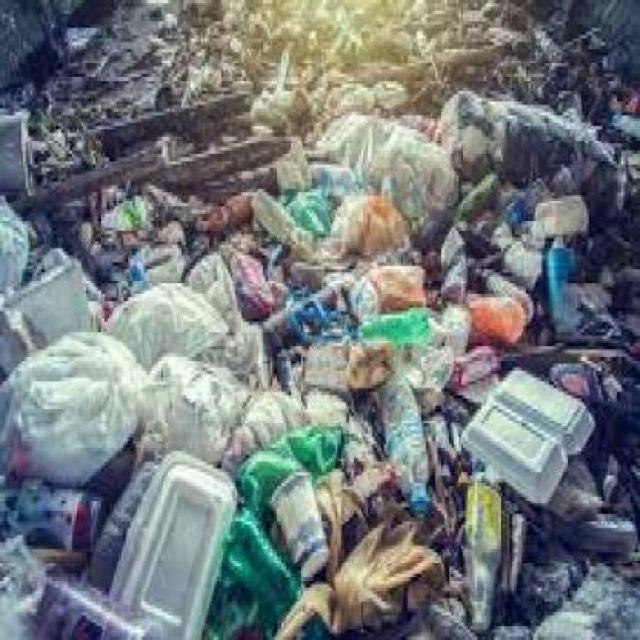garbage: (9, 14, 624, 612)
